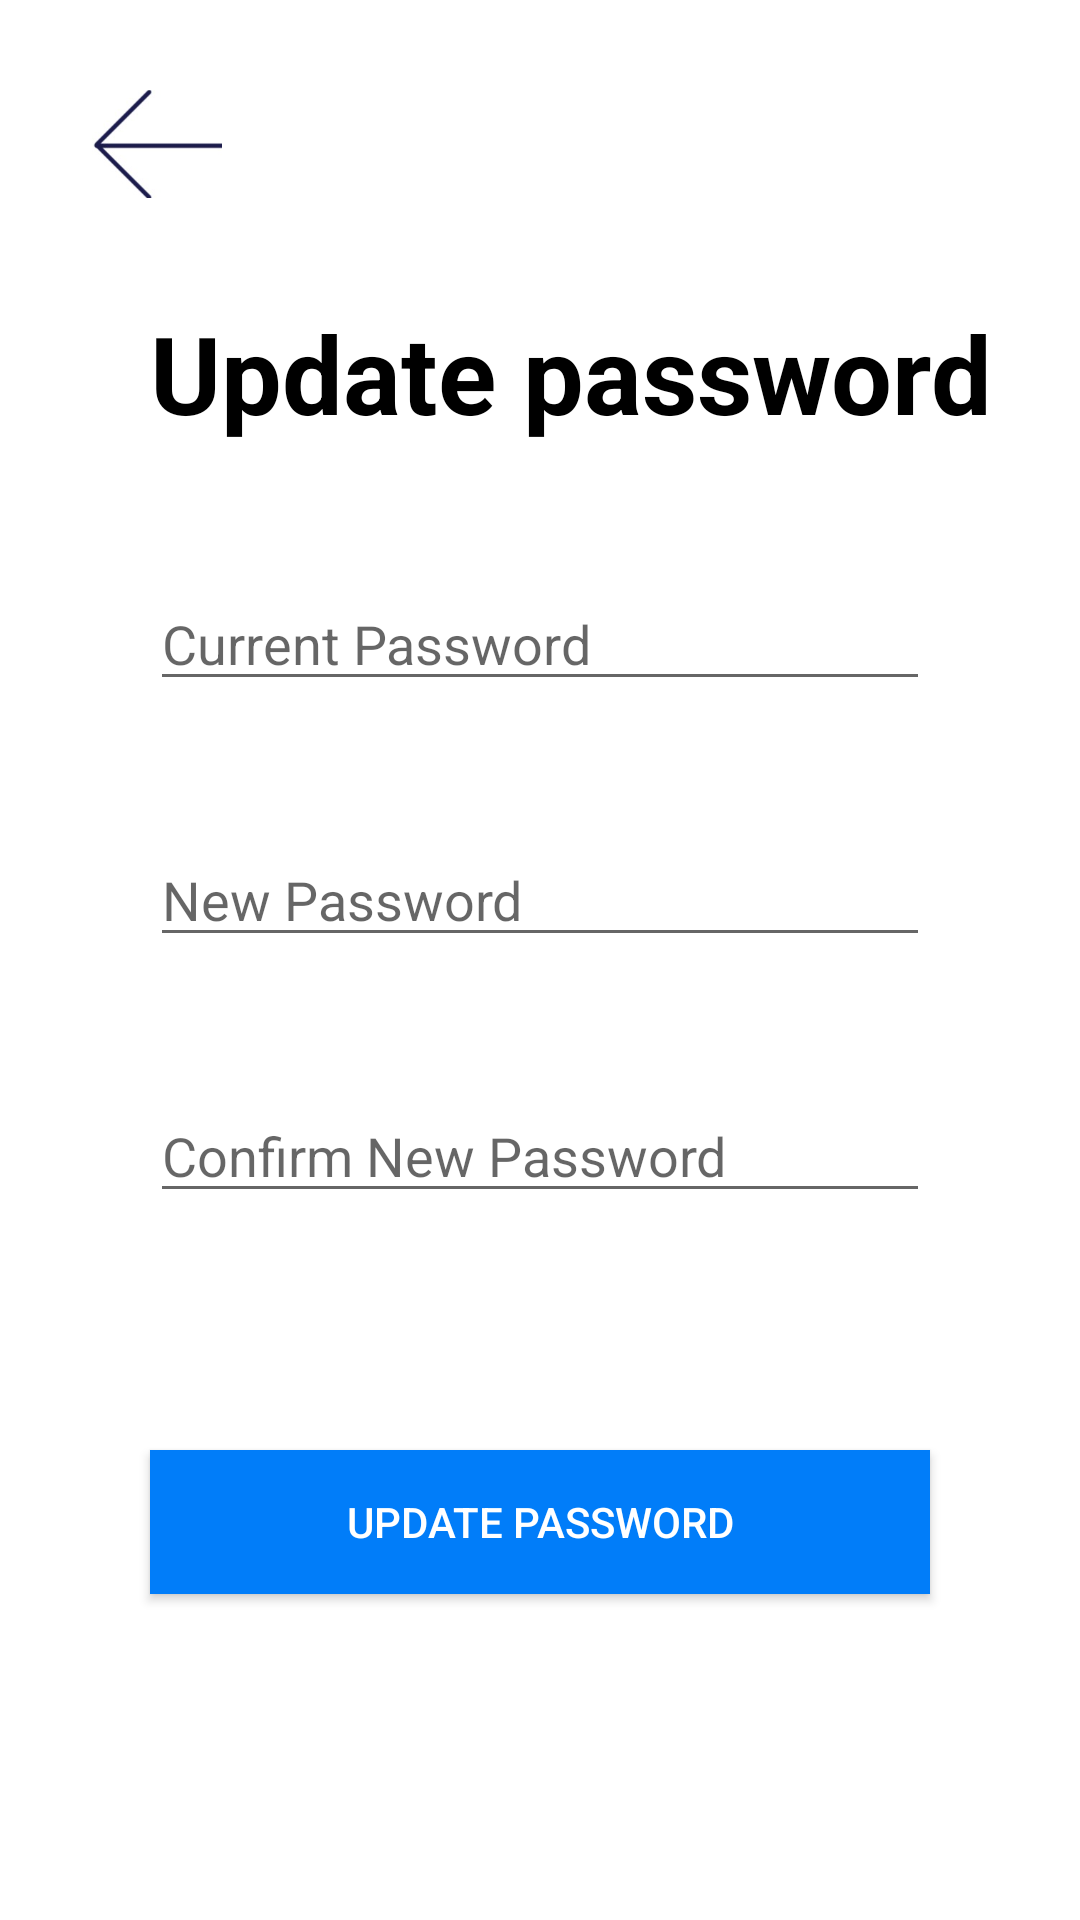

Where icons sit on this 1080w x 1920h app screen, as (x1, y1, x2, y2):
back: (94, 90, 222, 198)
